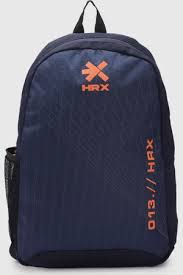backpack: (3, 0, 178, 268)
